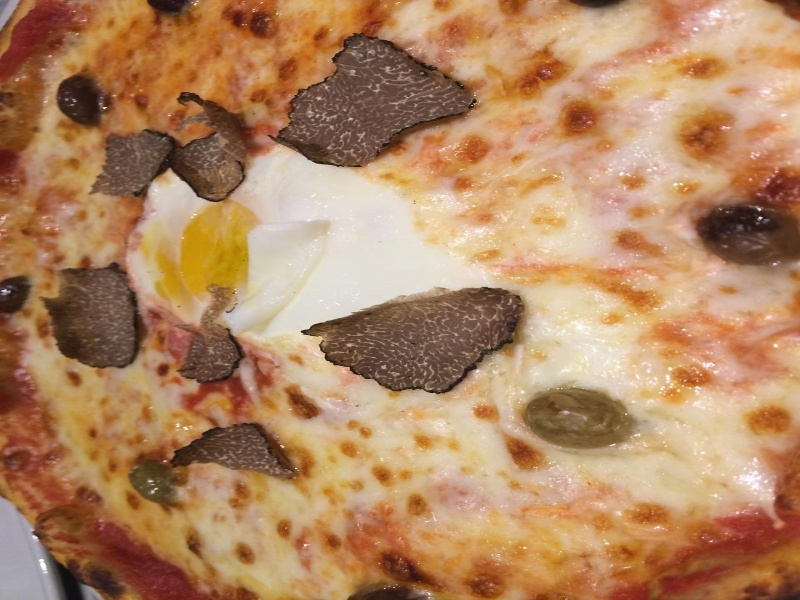oeuf: (138, 196, 303, 312)
